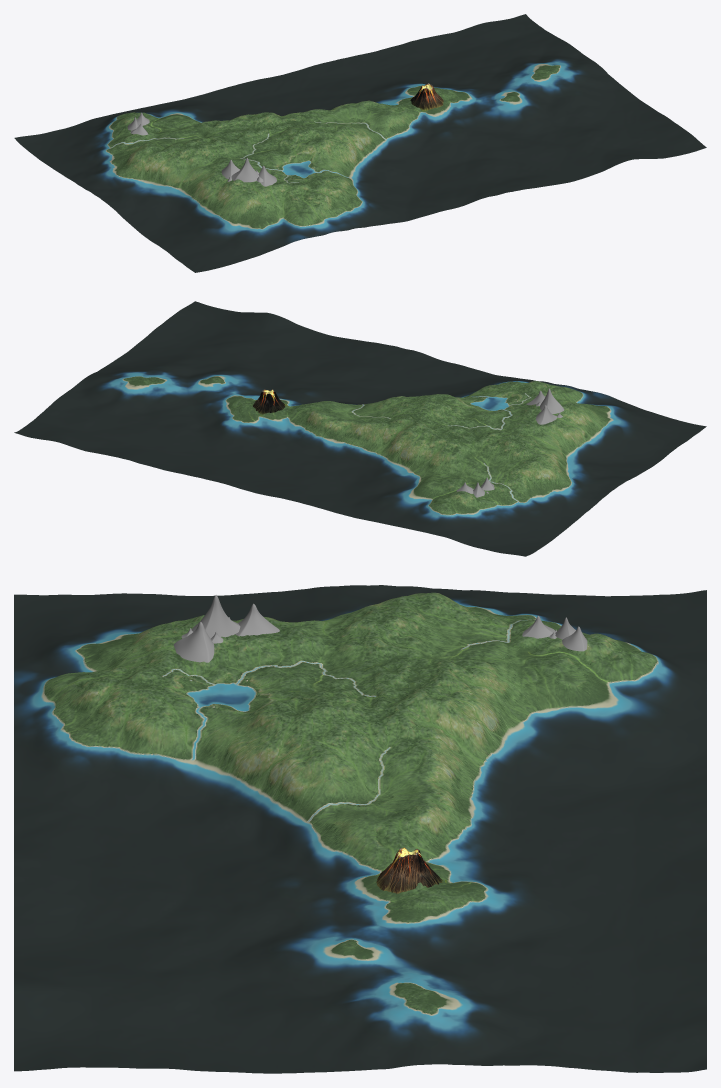
Rendered from terrain.FBX.
The picture shows the model from 3 angles, top to bottom: view 1: azimuth 30°, elevation 25°; view 2: azimuth 150°, elevation 25°; view 3: azimuth 270°, elevation 25°; orthographic projection. The views are drawn at different scales.
Parts seen in each view (by area): view 1: Plane001, Mountain_Range002; view 2: Plane001, Mountain_Range002; view 3: Plane001, Mountain_Range002, Mountain_Range001.
Boxes of the visible parts, bbox=[...] form: Plane001: bbox=[14, 14, 706, 272]; Mountain_Range002: bbox=[221, 158, 276, 186]; Plane001: bbox=[14, 301, 706, 556]; Mountain_Range002: bbox=[526, 388, 564, 424]; Plane001: bbox=[14, 585, 706, 1073]; Mountain_Range002: bbox=[173, 595, 279, 662]; Mountain_Range001: bbox=[522, 616, 587, 651].
Size of the model in its own units: 4096 by 400 by 2512.
3 materials, 2 textured.
